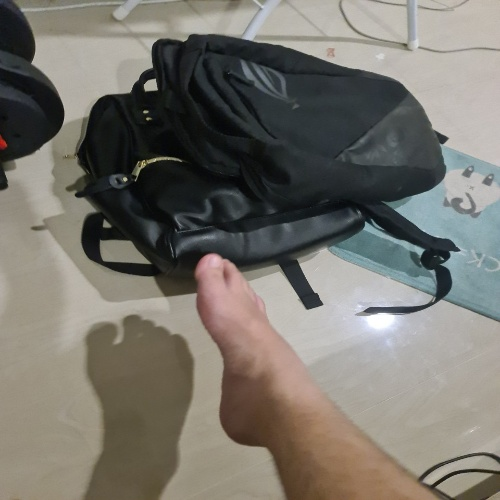3: (194, 254, 224, 287)
4: (220, 379, 263, 446)
Top_Foot: (195, 254, 316, 449)
